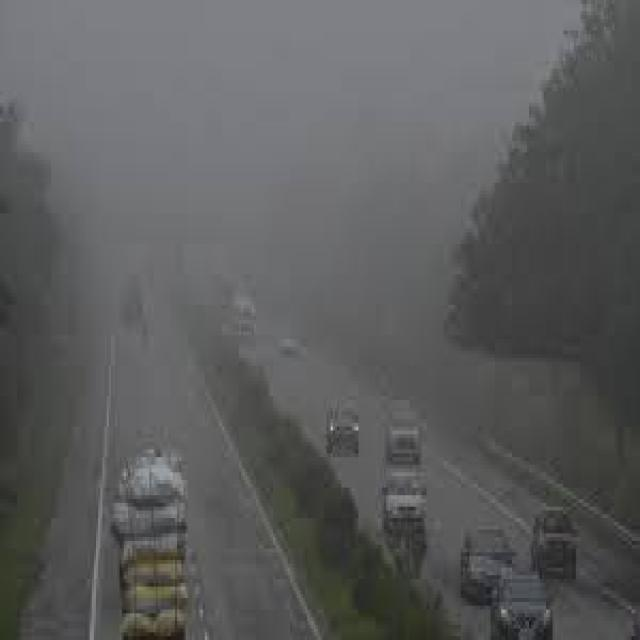no-low traffic: (241, 270, 565, 640)
